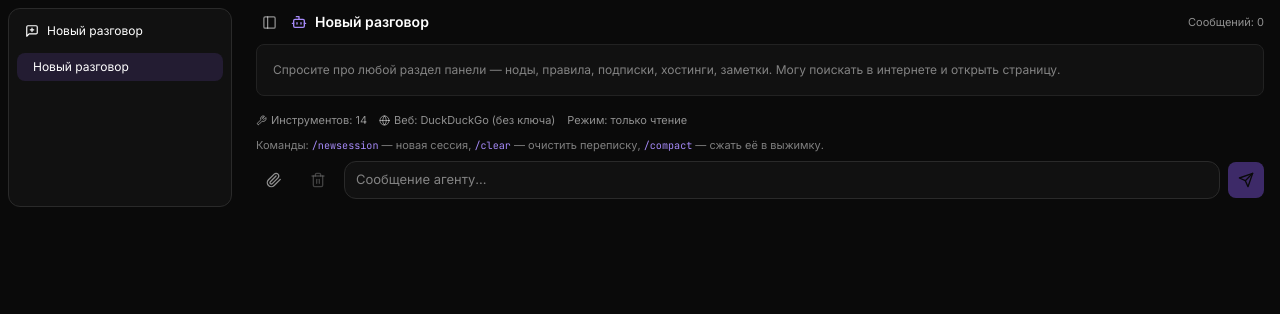
AiChat › shows a live status line while the agent works and hides it afterwards
The image size is (1280, 314).
Type "перенеси данные" into the field with placeholder "Сообщение агенту..." at (782, 180), box [344,161,1220,198]
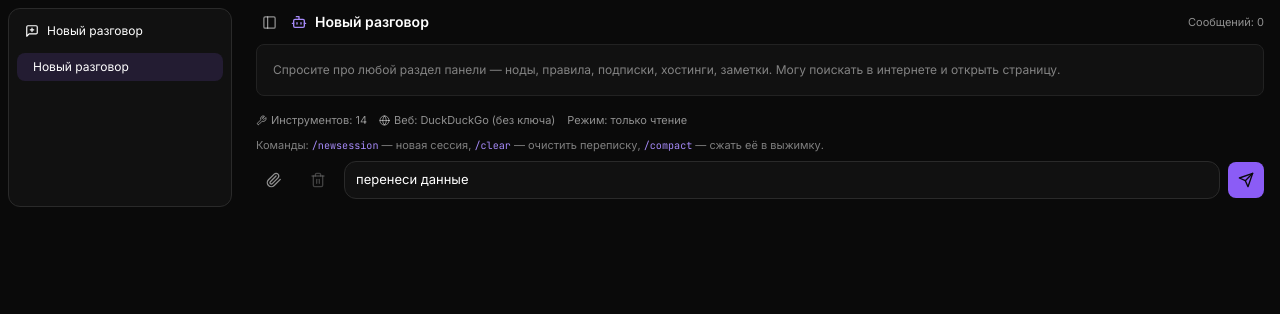
Press Enter in the field with placeholder "Сообщение агенту...", box [344,161,1220,198]
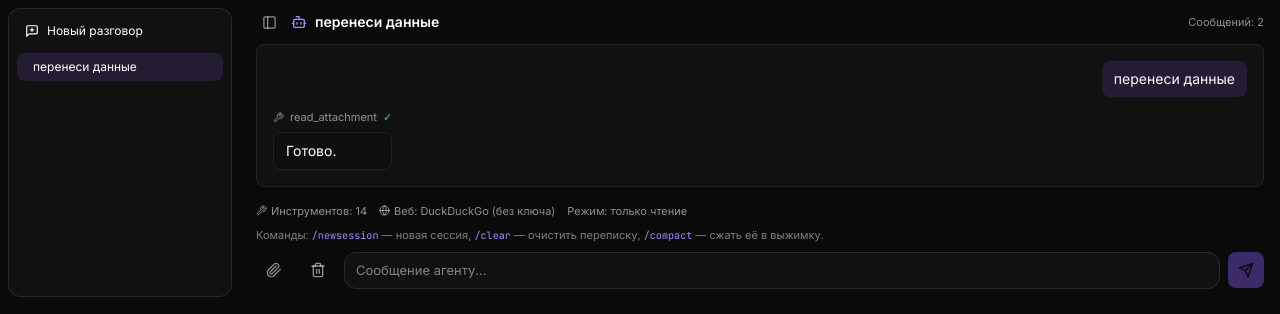
expect the text "Готово." is shown: met, box [286,142,336,158]
